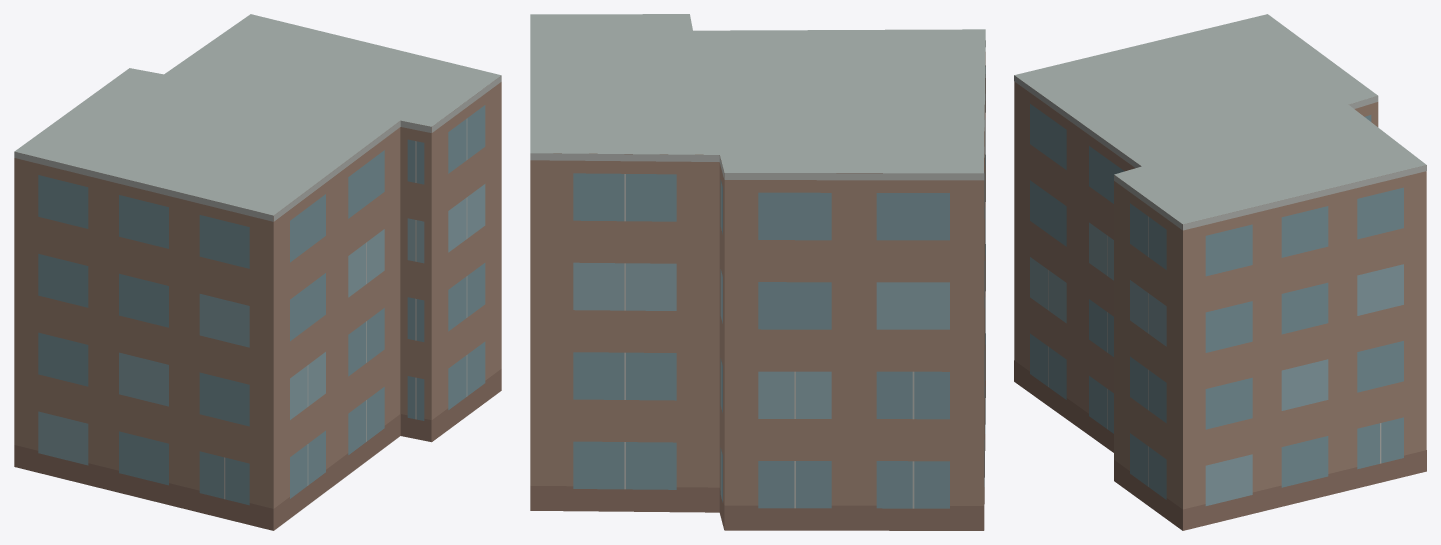
Rendered from survey-upis-32972186.glb.
3 renders of one model, left to right at view 1: azimuth 30°, elevation 25°; view 2: azimuth 150°, elevation 25°; view 3: azimuth 270°, elevation 25°, orthographic. The views are drawn at different scales.
Parts seen in each view (by area): view 1: survey-upis-32972186.tmp; view 2: survey-upis-32972186.tmp; view 3: survey-upis-32972186.tmp.
Part boxes in pixels (box(x1,y1,x2,y2)): survey-upis-32972186.tmp: box(14, 14, 501, 530); survey-upis-32972186.tmp: box(530, 14, 985, 530); survey-upis-32972186.tmp: box(1014, 14, 1426, 530).
Size of the model in its own units: 17.97 by 12.2 by 14.9.
